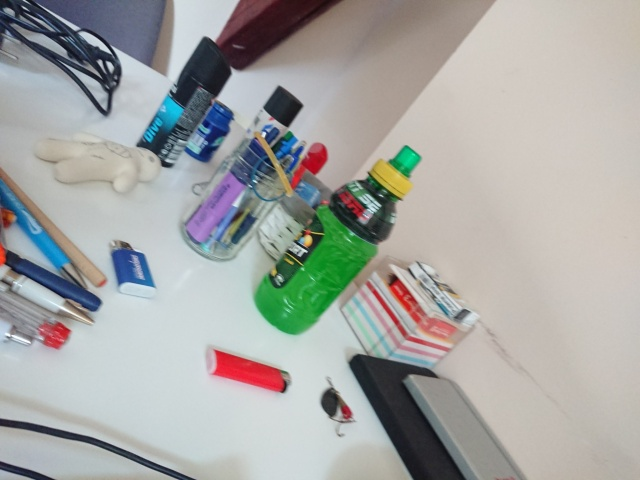Vindi Iso Sport Lemon-Grapefruit 500mL: (251, 143, 424, 337)
